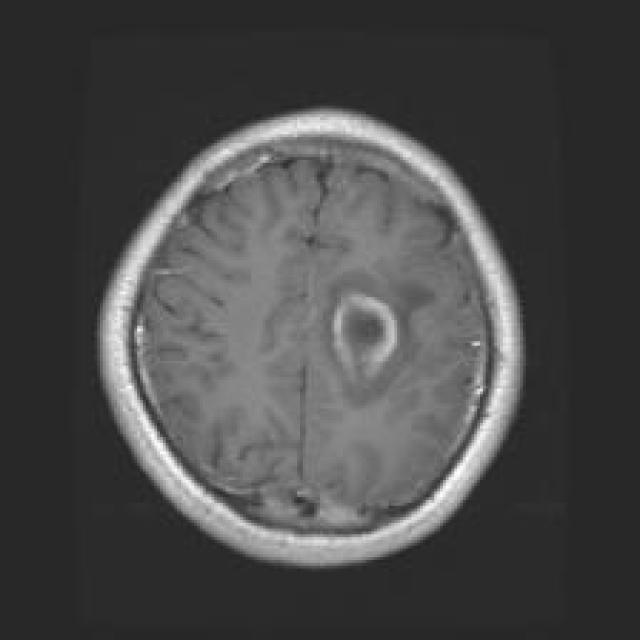glioma_tumor: (308, 275, 423, 405)
